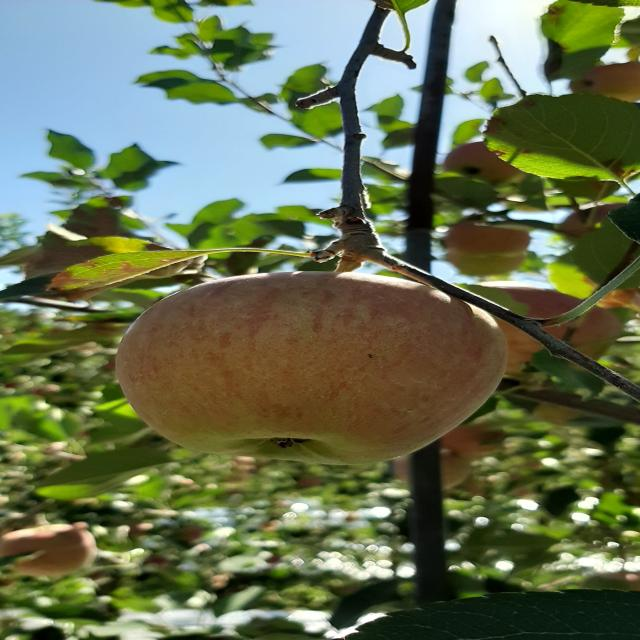fresh: (102, 271, 529, 473)
